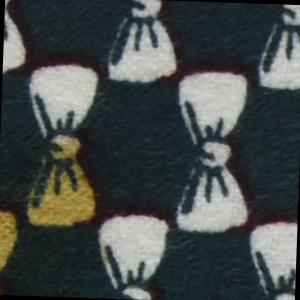Stain: (1, 125, 115, 299)
